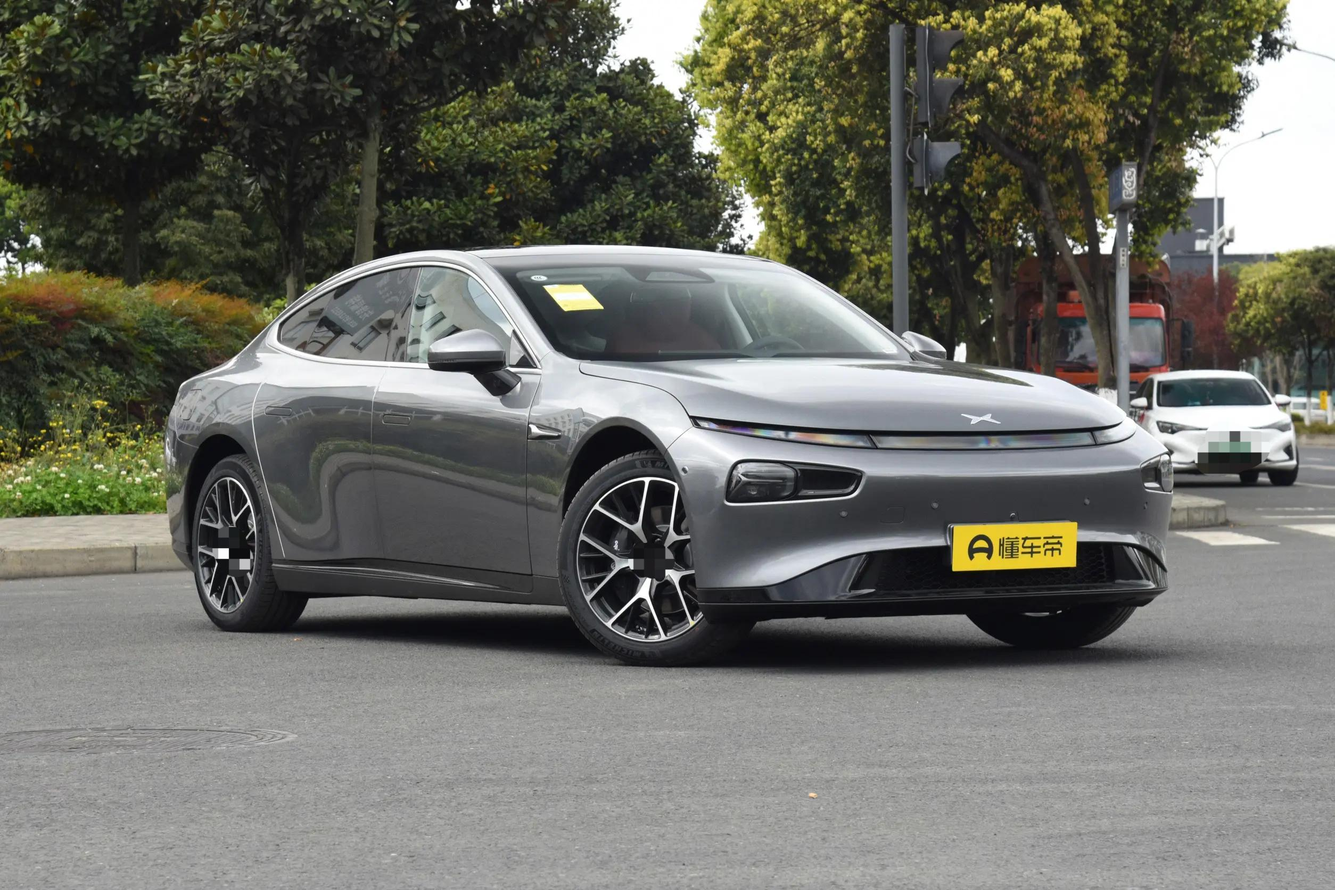XPeng Motors: (961, 414, 1001, 424)
